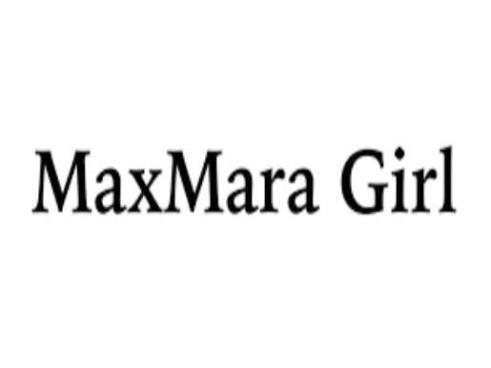MAX-MARA: (30, 145, 323, 215)
